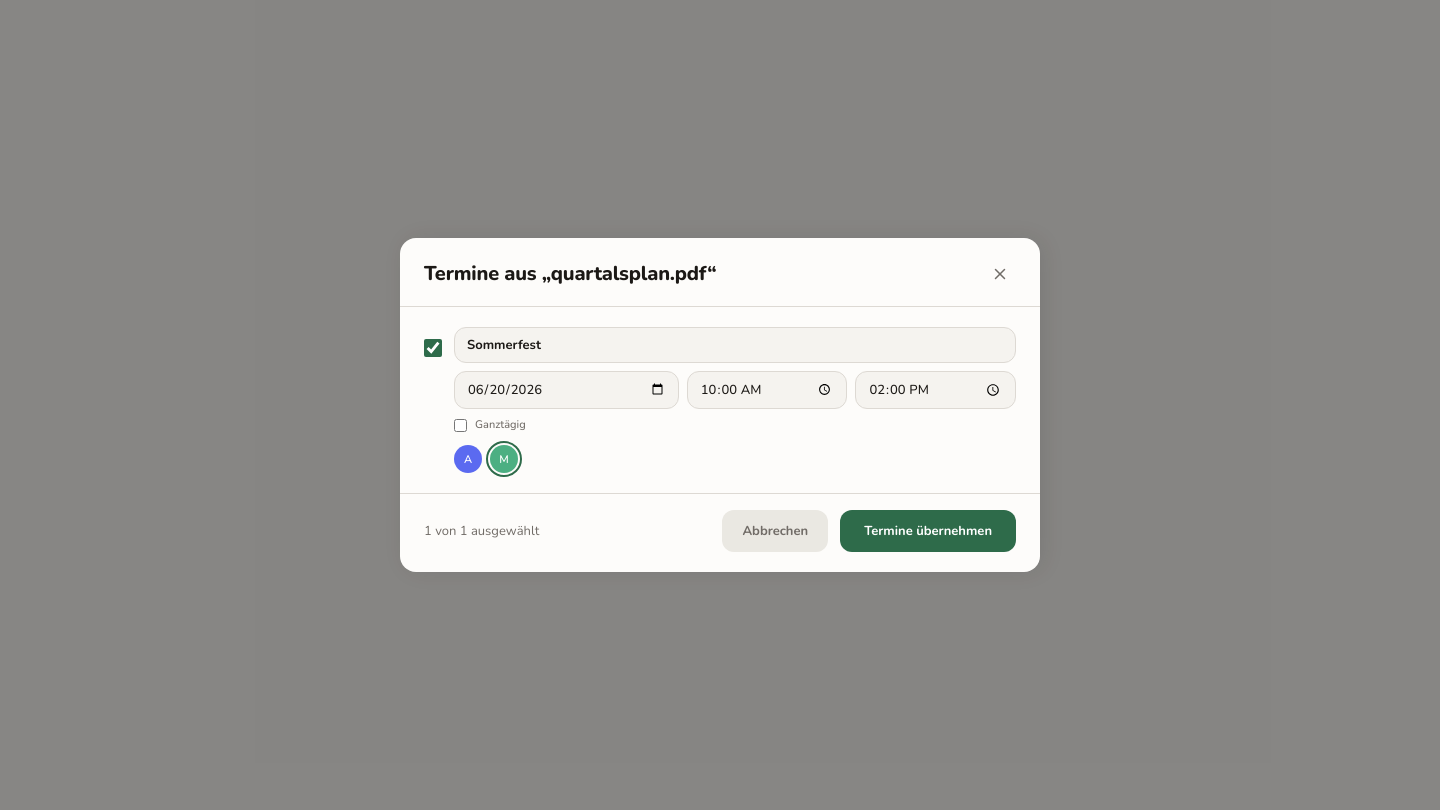
ExtractEventsModal — Ganztägig-Erkennung › Umschalten des Ganztägig-Toggles blendet die Zeit-Eingaben ein/aus
The width and height of the screenshot is (1440, 810).
Expected: the time field named "Startzeit" is shown, [687,371,847,409]
Click the checkbox labelled "Ganztägig" at (460, 425), box [454,418,467,432]
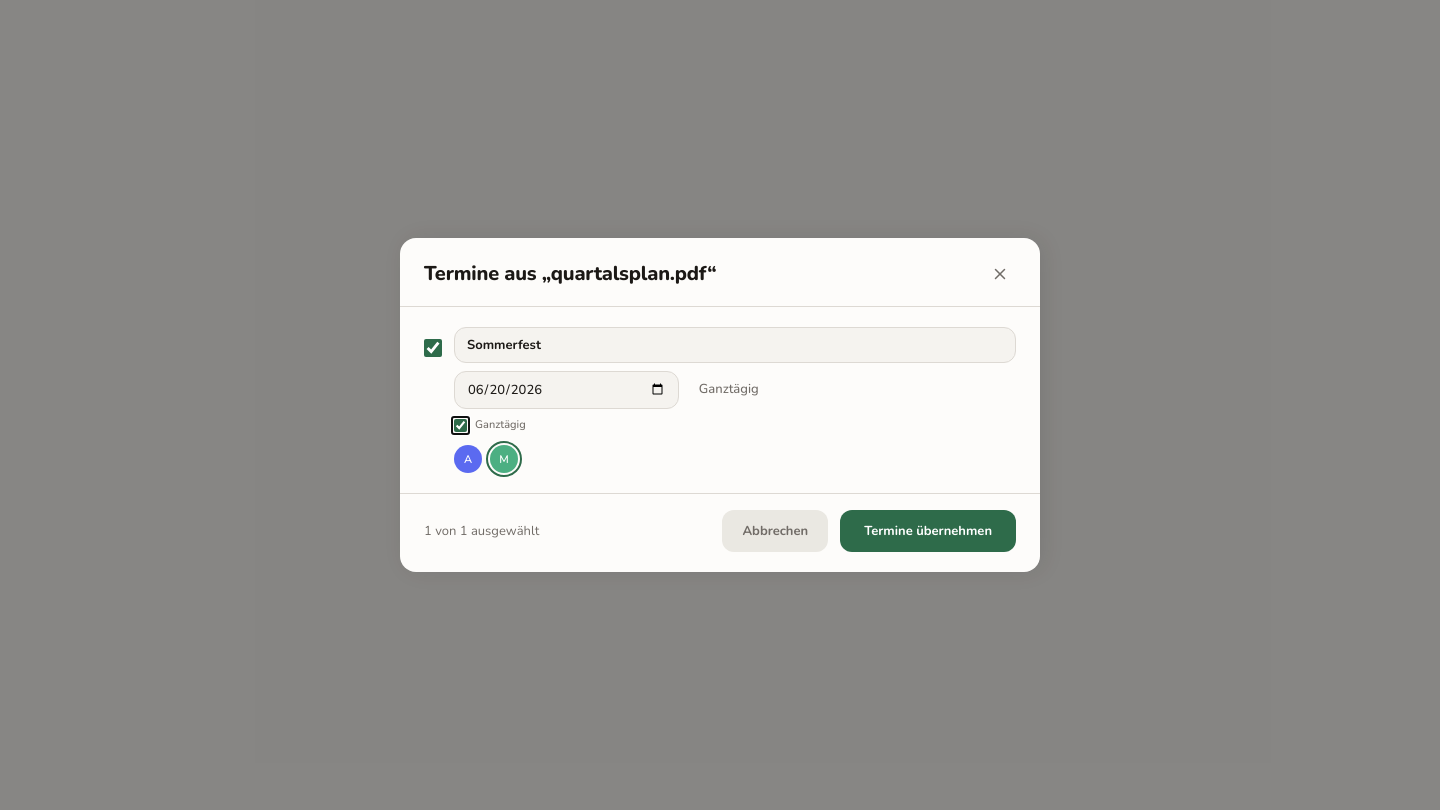
Expected: the time field labelled "Startzeit" is gone
